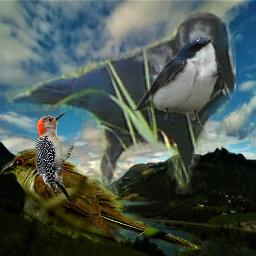Crow: (5, 12, 236, 194)
Cuckoo: (0, 148, 201, 252)
Swallow: (133, 36, 226, 129)
Woodpecker: (32, 109, 74, 209)
